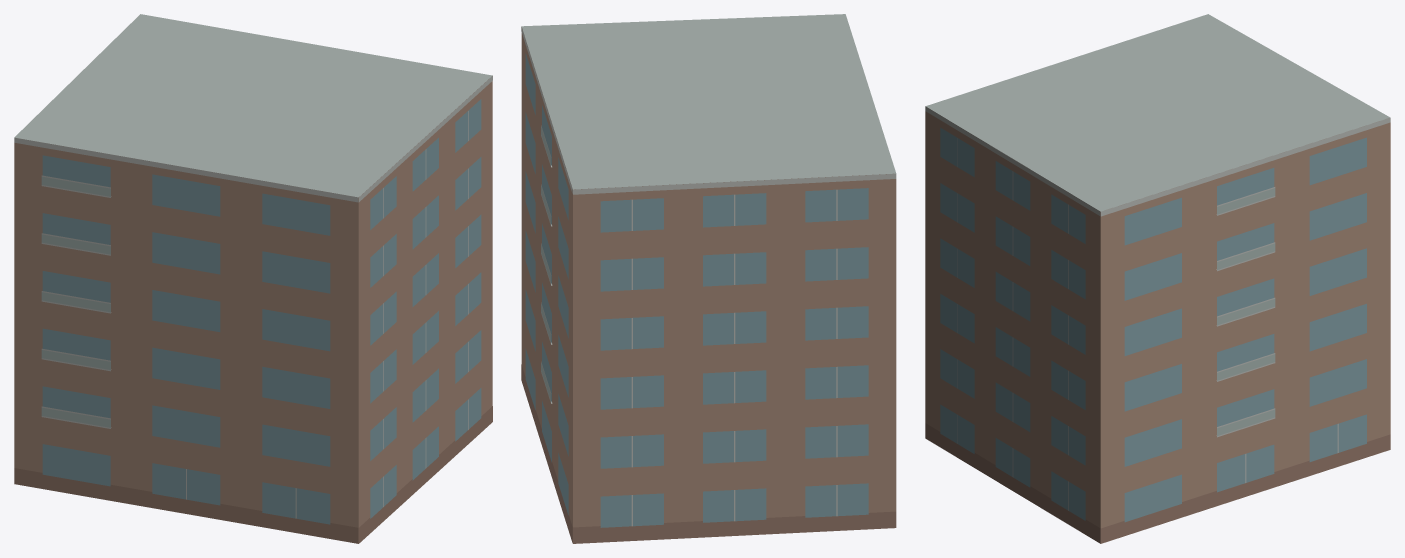
The model's file is survey-upis-32724213.glb.
The picture shows the model from 3 angles, left to right: view 1: azimuth 30°, elevation 25°; view 2: azimuth 150°, elevation 25°; view 3: azimuth 270°, elevation 25°; orthographic projection. The views are drawn at different scales.
Parts seen in each view (by area): view 1: survey-upis-32724213.tmp; view 2: survey-upis-32724213.tmp; view 3: survey-upis-32724213.tmp.
Part boxes in pixels (<box>): survey-upis-32724213.tmp: <box>14,14,492,543</box>; survey-upis-32724213.tmp: <box>521,14,896,543</box>; survey-upis-32724213.tmp: <box>925,14,1390,543</box>.
Size of the model in its own units: 21.07 by 16.5 by 20.94.
